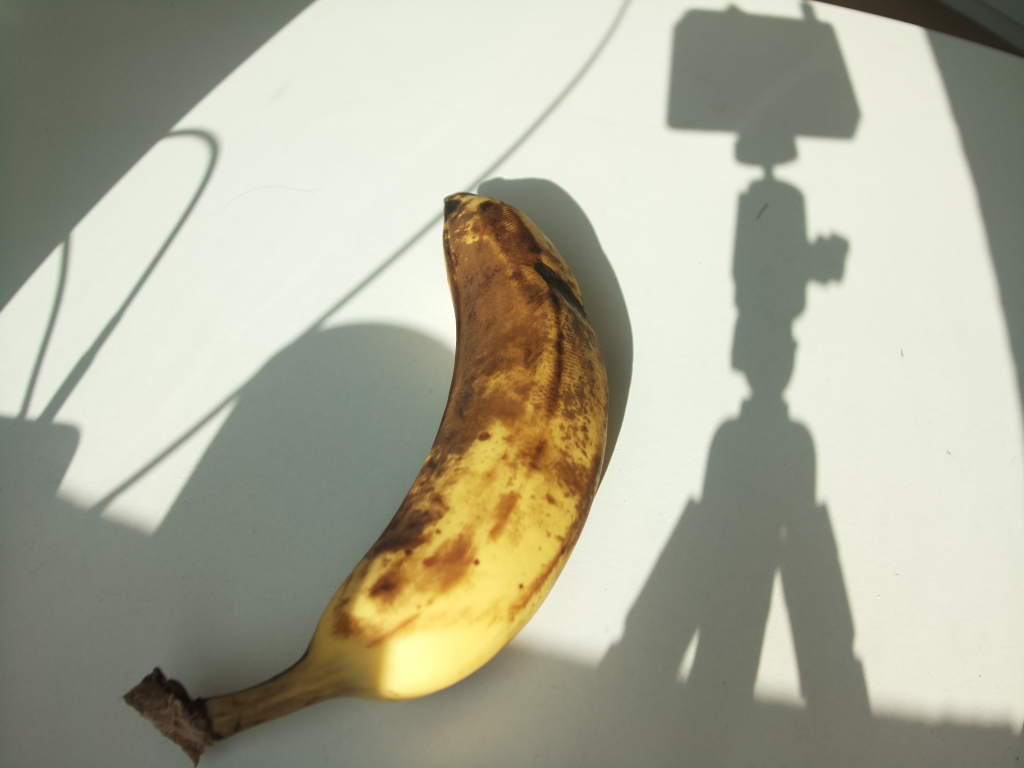banana-overripe: (117, 191, 612, 766)
